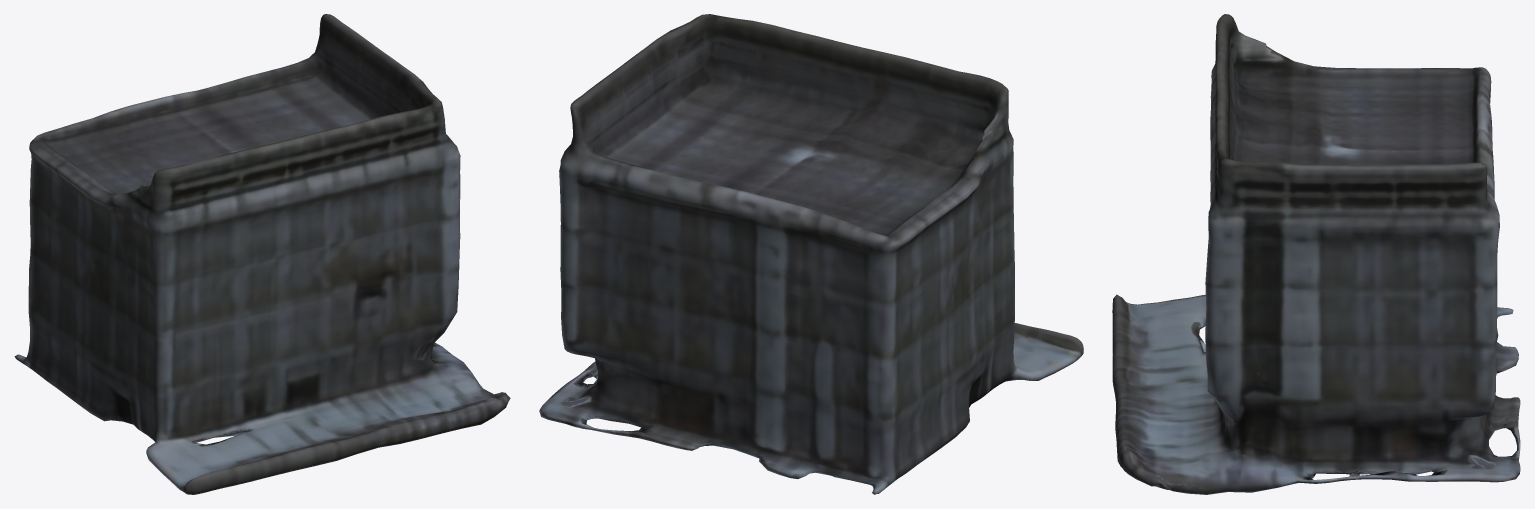
Rendered from abandoned_building7.glb.
The picture shows the model from 3 angles, left to right: view 1: azimuth 30°, elevation 25°; view 2: azimuth 150°, elevation 25°; view 3: azimuth 270°, elevation 25°; orthographic projection. The views are drawn at different scales.
Visible parts, largest first — view 1: mesh; view 2: mesh; view 3: mesh.
Part boxes in pixels (box(x1,y1,x2,y2)): mesh: box(14, 14, 510, 494); mesh: box(539, 14, 1083, 494); mesh: box(1112, 14, 1520, 494).
Bounding box in the file's own units: 0.9334 × 0.773 × 0.8921.
Materials: 1 (1 with a texture image).
